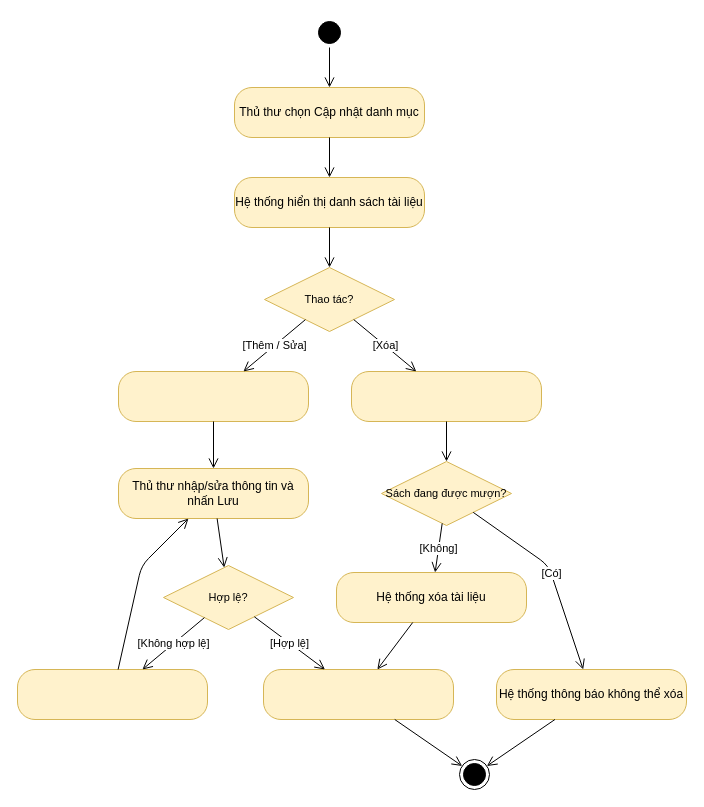
Some shapes in this 704 by 807 pixel diagram are drawn without their labels. The centre of each missing label's shape, as x and y in pixels:
Hệ thống hiển thị form thông tin tài liệu: [213,396]
Hệ thống lưu thay đổi và thông báo thành công: [358,694]
Hệ thống thông báo dữ liệu không hợp lệ: [112,694]
Hệ thống yêu cầu xác nhận xóa: [446,396]
